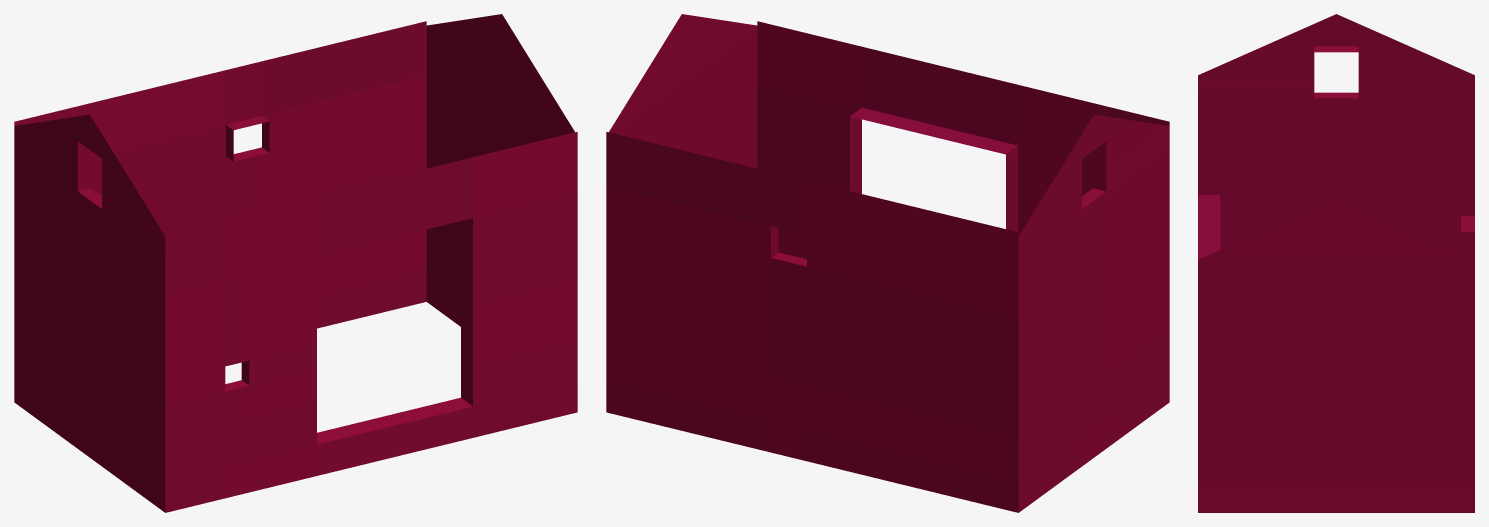
The model's file is SM_Bld_000_Masonry.glb.
3 views of the same model, side by side, from view 1: azimuth 30°, elevation 25°; view 2: azimuth 150°, elevation 25°; view 3: azimuth 270°, elevation 25° (orthographic). The views are drawn at different scales.
Visible parts, largest first — view 1: SM_Bld_000_Masonry; view 2: SM_Bld_000_Masonry; view 3: SM_Bld_000_Masonry.
Part boxes in pixels (bbox=[...]): SM_Bld_000_Masonry: bbox=[14, 14, 577, 512]; SM_Bld_000_Masonry: bbox=[606, 14, 1169, 512]; SM_Bld_000_Masonry: bbox=[1198, 14, 1474, 512].
Bounding box in the file's own units: 6.87 × 5.46 × 4.36.
